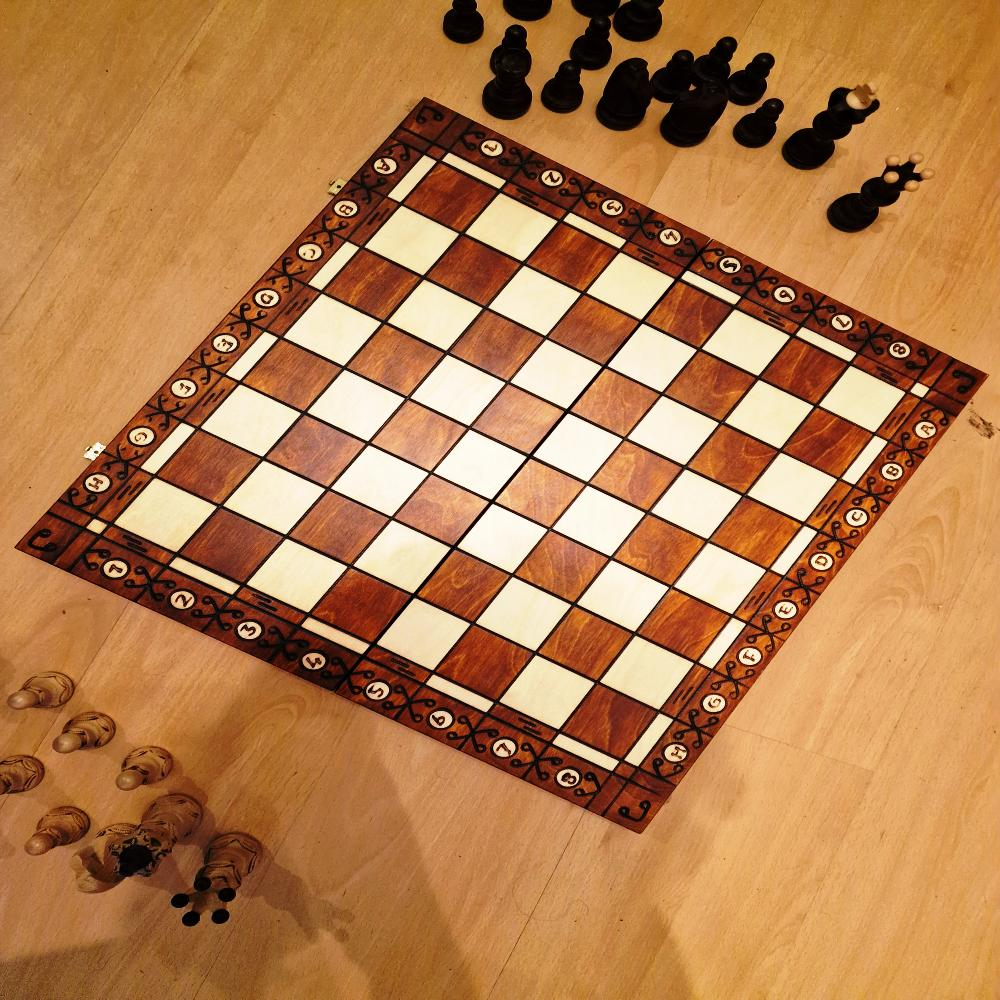chessfield: (222, 460, 328, 539), (158, 429, 265, 507), (244, 537, 349, 616), (178, 510, 284, 588), (113, 477, 219, 555), (351, 520, 453, 599), (434, 625, 535, 704), (310, 568, 412, 646), (202, 386, 303, 464), (560, 685, 660, 763), (288, 493, 390, 569), (266, 414, 369, 489), (599, 636, 700, 712), (344, 326, 446, 401), (499, 658, 597, 736), (474, 578, 573, 655), (303, 369, 404, 444), (538, 609, 636, 686), (330, 447, 430, 522), (325, 248, 425, 323), (376, 596, 473, 673), (392, 473, 491, 548), (241, 341, 342, 414), (572, 562, 669, 638), (414, 548, 511, 624), (284, 295, 382, 370), (636, 587, 731, 664), (370, 401, 470, 474), (469, 386, 566, 461), (550, 485, 647, 560), (408, 356, 506, 430), (423, 236, 521, 310), (780, 407, 876, 482), (709, 500, 806, 574), (433, 428, 530, 502), (387, 282, 484, 356), (401, 165, 500, 237), (514, 531, 610, 605), (673, 542, 769, 616), (448, 310, 544, 384), (366, 205, 462, 279), (528, 412, 624, 485), (488, 264, 584, 337), (624, 397, 720, 470), (604, 322, 700, 395), (613, 514, 707, 588), (651, 469, 745, 542), (463, 193, 557, 266), (493, 459, 588, 531), (509, 341, 604, 413), (454, 506, 550, 577), (685, 424, 777, 498), (665, 351, 758, 424), (548, 296, 642, 368), (588, 443, 682, 515), (744, 454, 839, 525), (724, 382, 816, 454), (524, 225, 616, 297), (568, 368, 662, 438), (698, 309, 790, 380), (582, 252, 675, 322), (761, 339, 852, 409), (818, 365, 909, 435), (644, 283, 735, 351)
